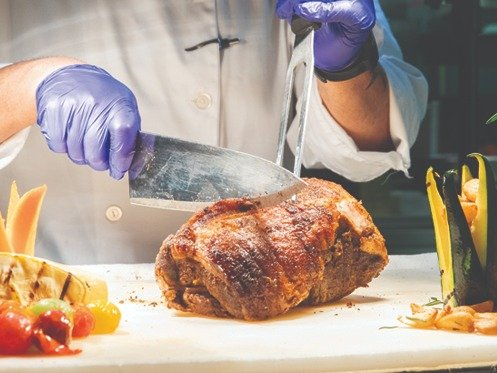pizza: (271, 0, 436, 256)
